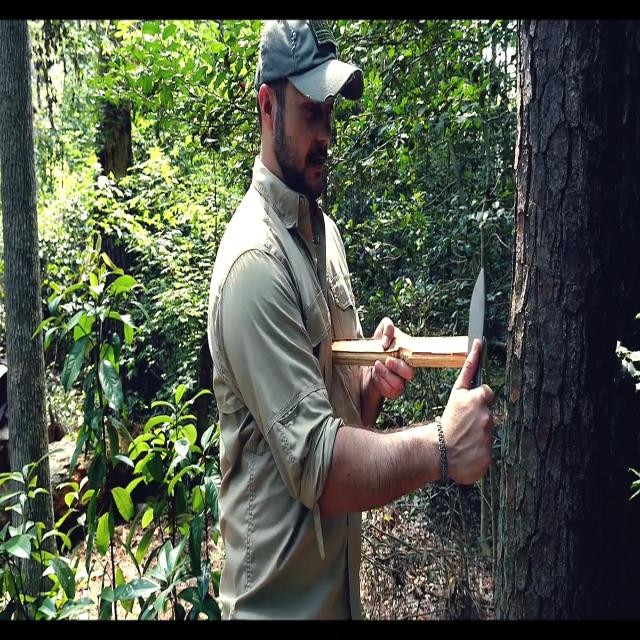knife: (466, 266, 491, 348)
